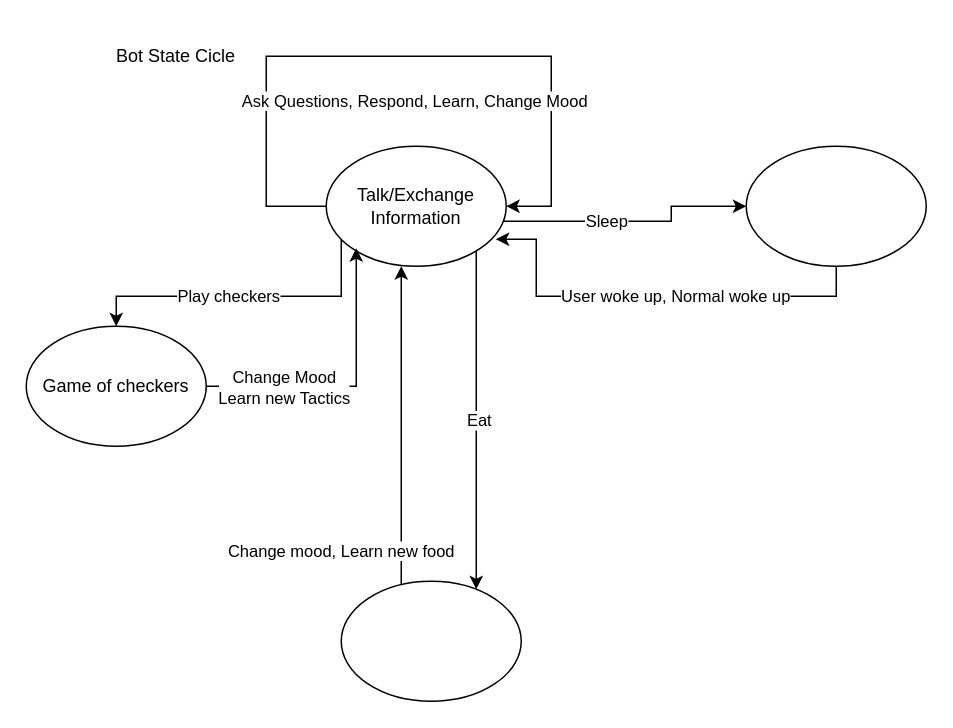
Some shapes in this 953 by 728 pixel diagram are drawn without their labels. Here are the shapes that lost their labels. From the top down, the centre of each, then its label:
At (835,205): "Sleeping".
At (430,640): "Eating".
